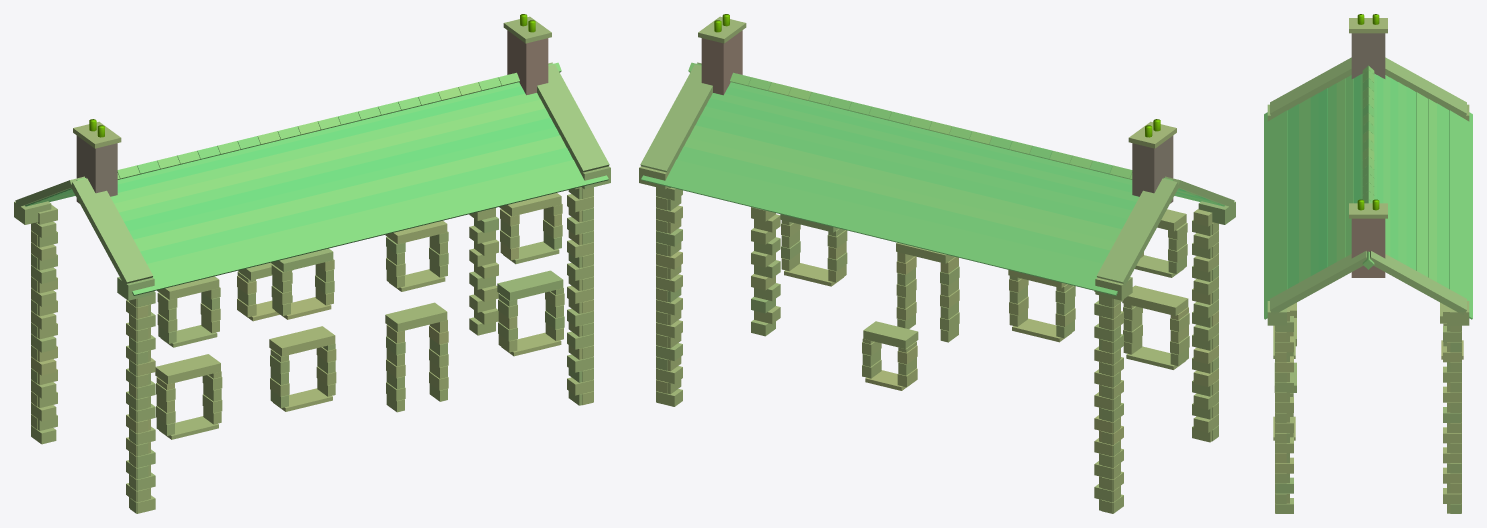
File: SM_Bld_010_Stone.glb
3 renders of one model, left to right at view 1: azimuth 30°, elevation 25°; view 2: azimuth 150°, elevation 25°; view 3: azimuth 270°, elevation 25°, orthographic. The views are drawn at different scales.
Visible parts, largest first — view 1: SM_Bld_010_Stone; view 2: SM_Bld_010_Stone; view 3: SM_Bld_010_Stone.
Part boxes in pixels (x1,y1,x2,y2): SM_Bld_010_Stone: (14,14,610,513); SM_Bld_010_Stone: (639,14,1235,513); SM_Bld_010_Stone: (1264,14,1472,513).
Bounding box in the file's own units: 13.35 × 9.12 × 5.61.
